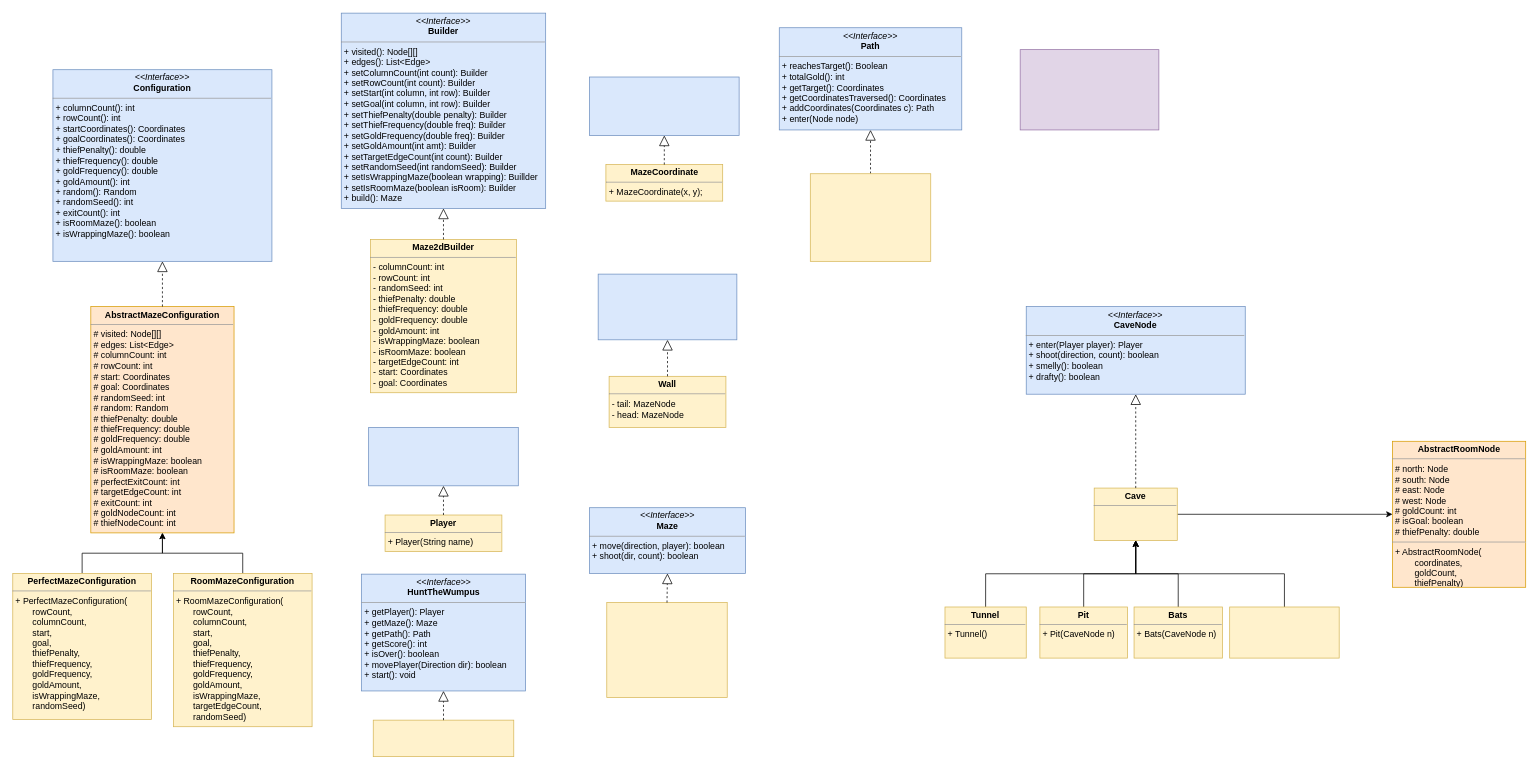
Image size: 1539x769. Some labels were removed from this diagram. Each missing label, with the box of its shape:
<<Enum>> Direction NORTH EAST SOUTH WEST: (1019, 49, 1159, 130)
<<Interface>> Coordinate + getX(): int + getY(): int: (589, 76, 739, 135)
<<Interface>> Edge + getTail(): MazeNode + getHead(): MazeNode: (597, 273, 737, 340)
<<Interface>> Player + getGoldCollected() + lootCell(Cell cell): (368, 427, 518, 486)
HTWMaze - start: Node - current: Node + HTWMaze(start ): (606, 602, 727, 698)
MazeGame + MazeGame(Player p, Maze m): (373, 719, 514, 757)
MazePath - target - totalGold - nodes: List<MazeNode> + MazePath(Cell target): (810, 173, 931, 261)
Wumpus + Wumpus(CaveNode n): (1229, 606, 1339, 658)
